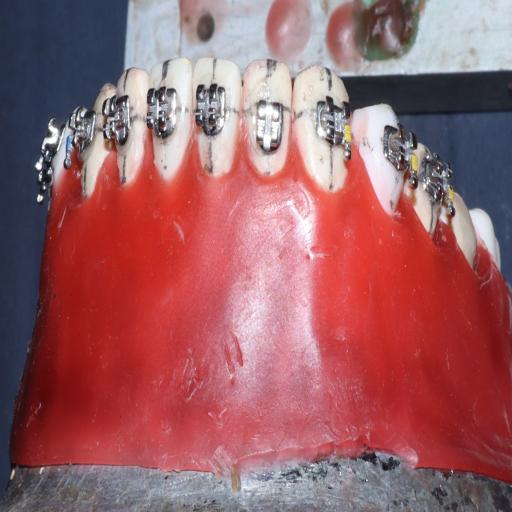correct_brace: (192, 81, 229, 138)
incorrect_brace: (240, 54, 292, 178), (310, 94, 354, 164), (252, 94, 284, 155)
